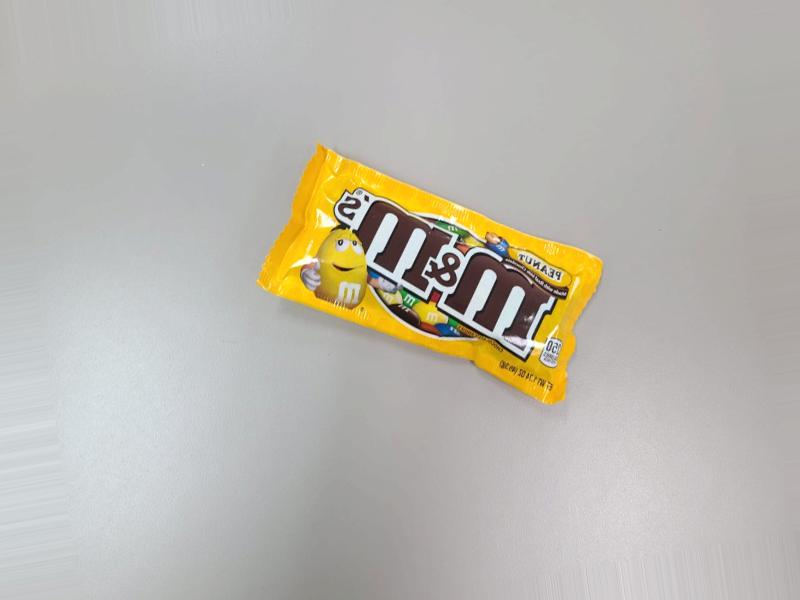m&m: (259, 142, 591, 419)
